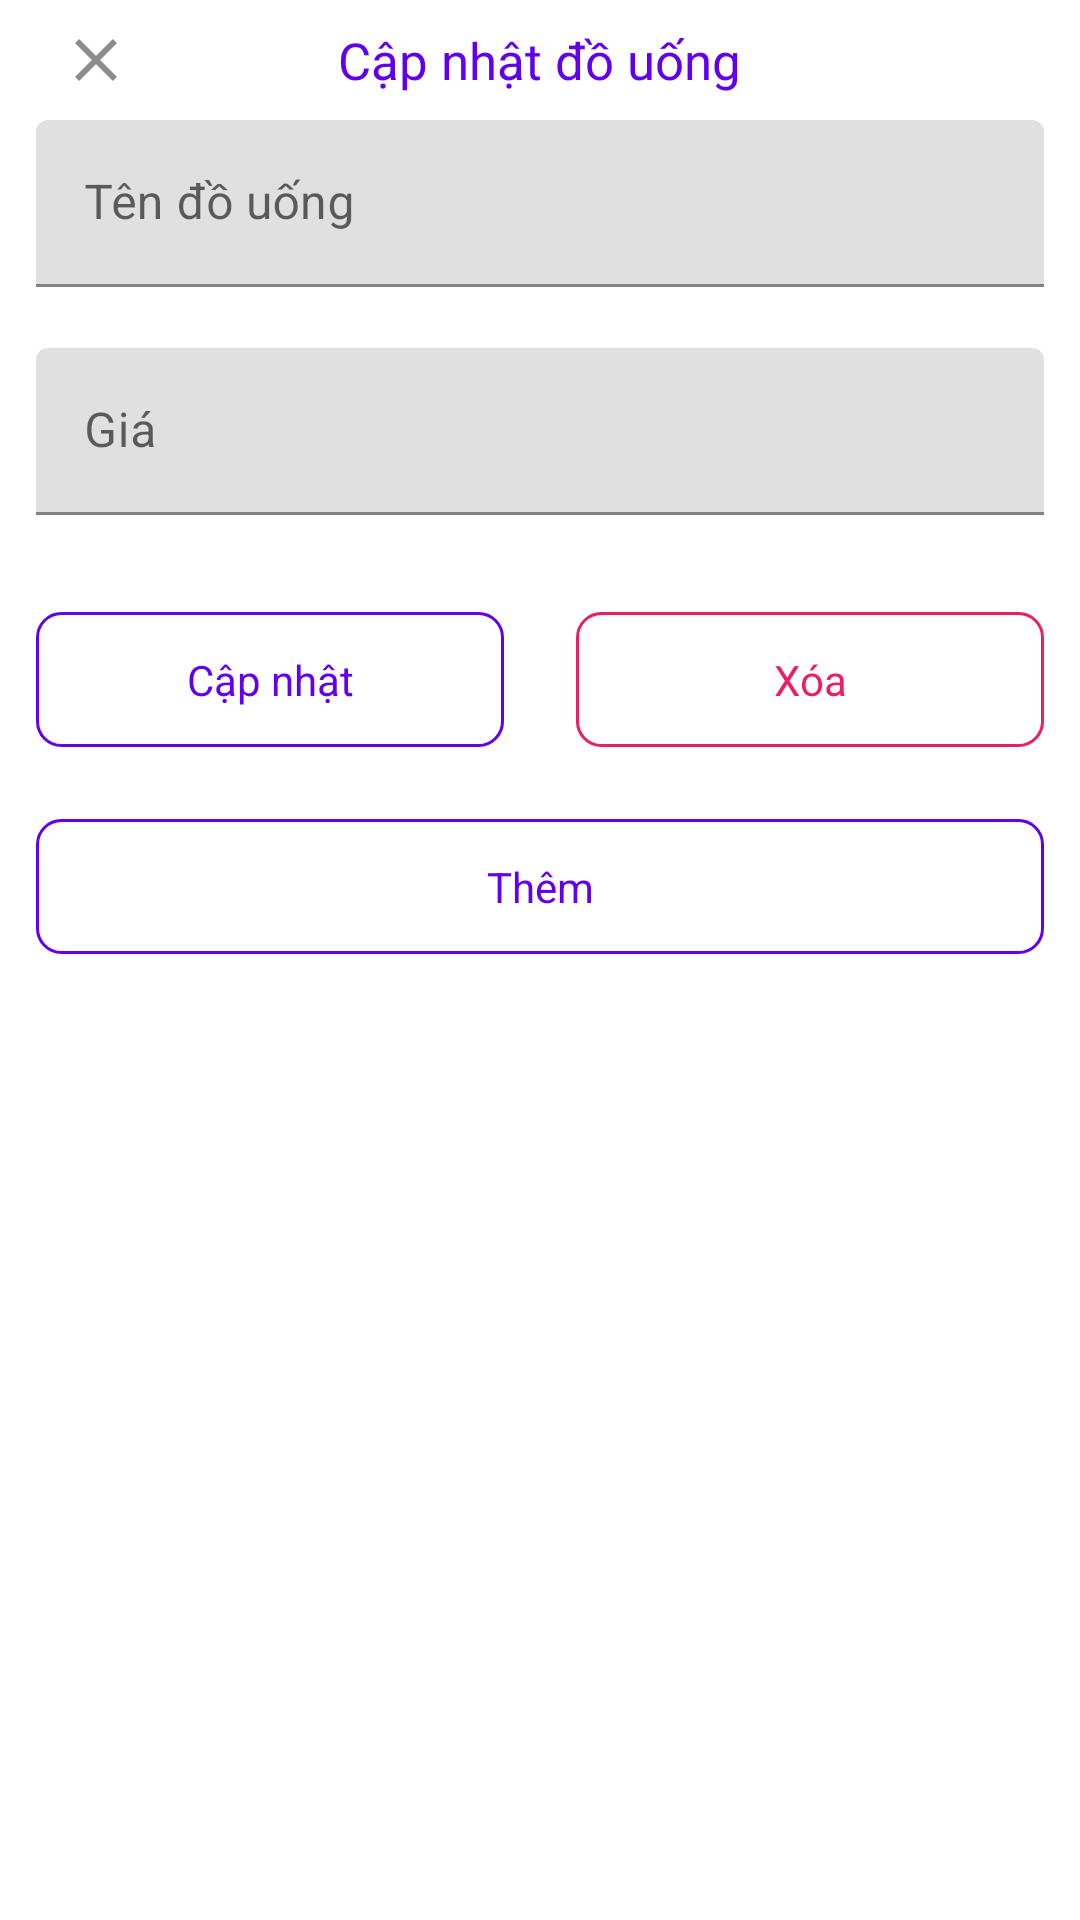

Icon click points for this 1080px×1920px phone screenshot, format (x=x, y=y):
close: (x=96, y=60)
